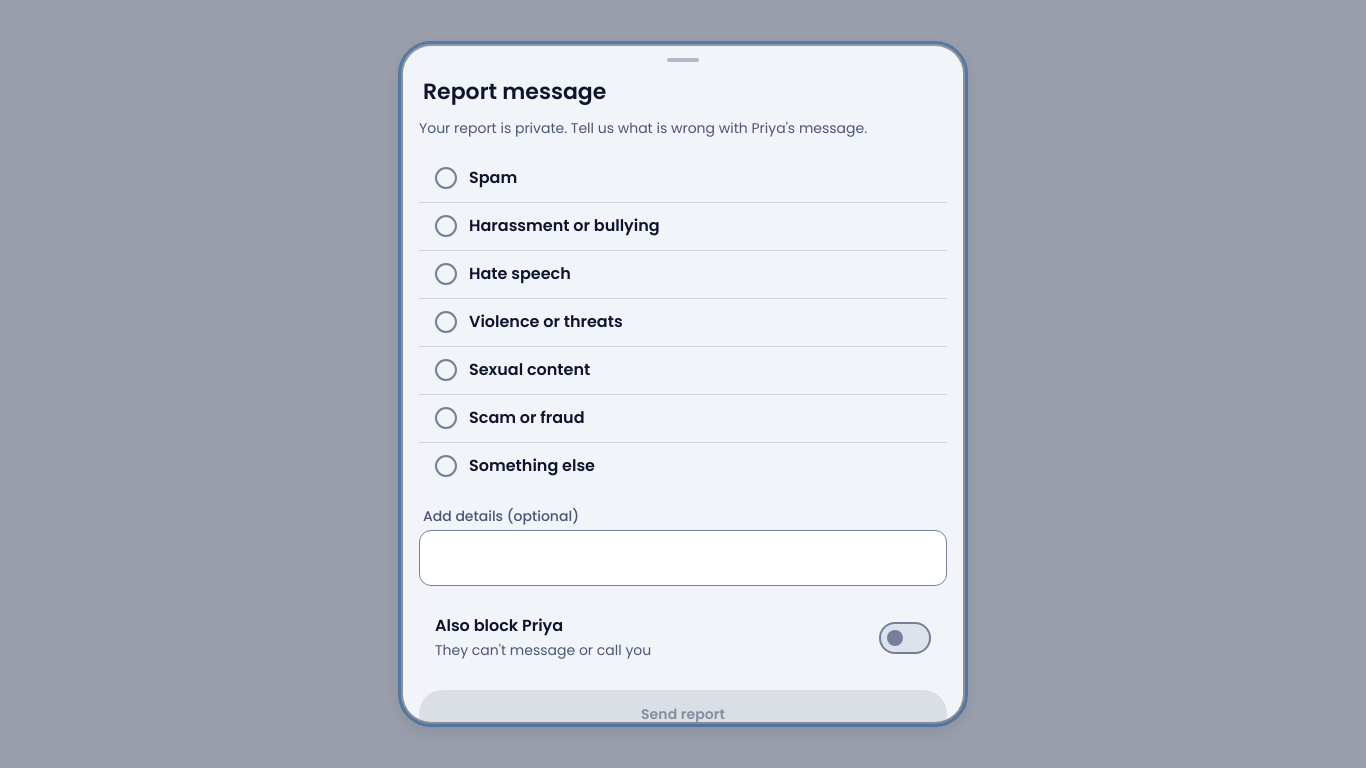
Test: reporting and blocking (App Store 1.2, Google Play User Generated Content) › a report needs a reason, is private, and says how fast it is looked at
The image size is (1366, 768).
expect the button "Send report" is disabled: met, box [419,690,947,722]
expect the text "Your report is private" is shown: met, box [419,118,752,138]
Click the radio button labelled "Harassment or bullying" at coordinates (564, 226), box [419,202,947,250]
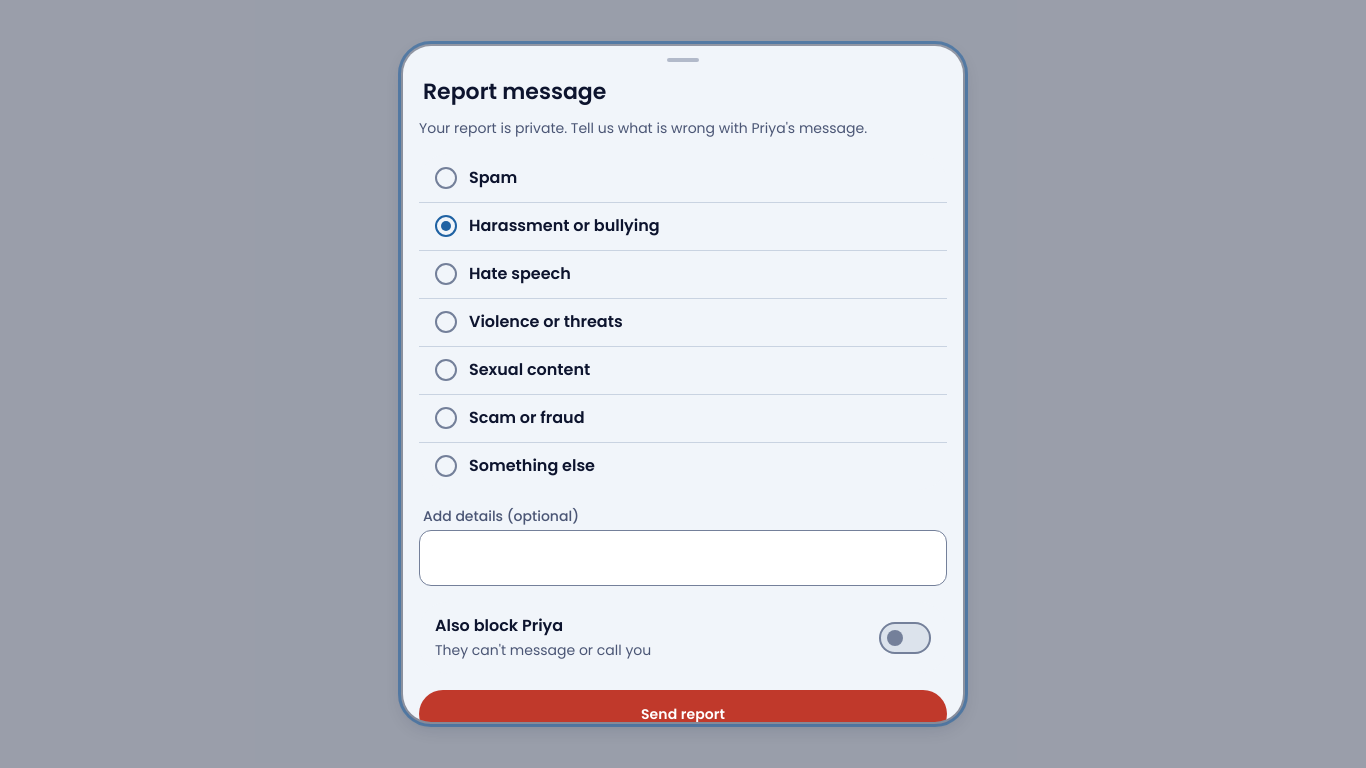
expect the button "Send report" is enabled: met, box [419,690,947,722]
Click the button "Send report" at coordinates (683, 714), box [419,690,947,738]
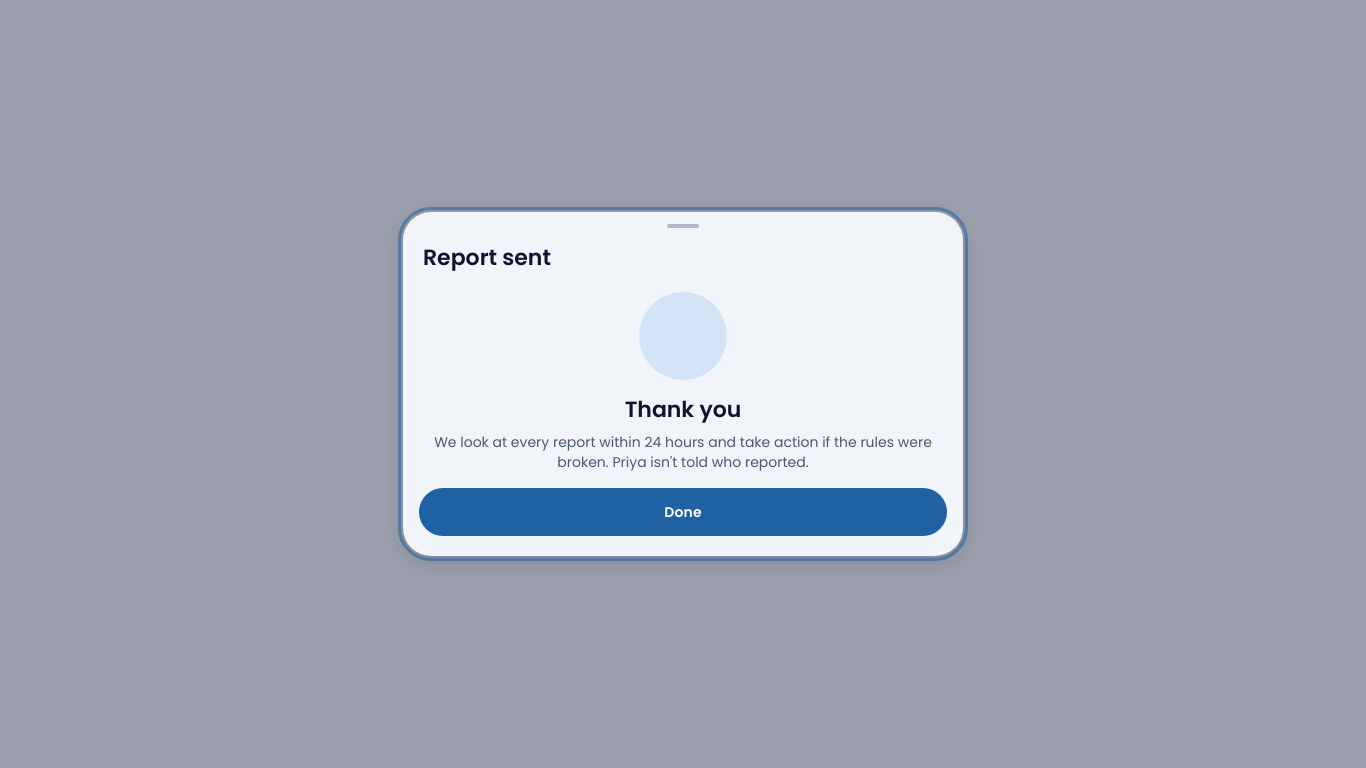
expect the text "within 24 hours" is shown: met, box [427,432,939,472]
